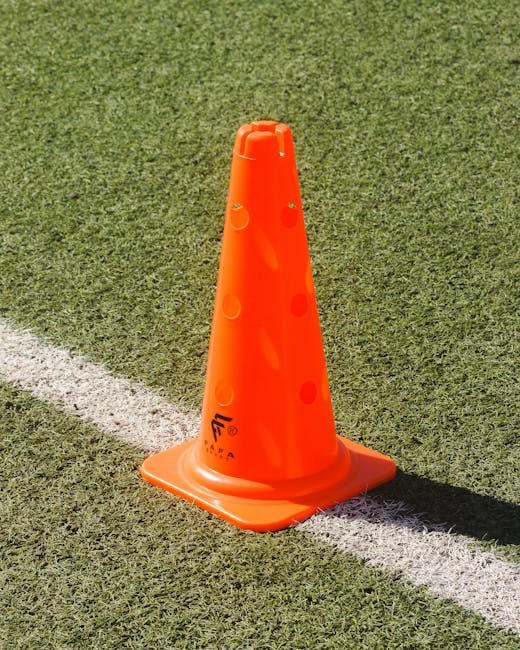traffic_cone: (139, 119, 397, 533)
